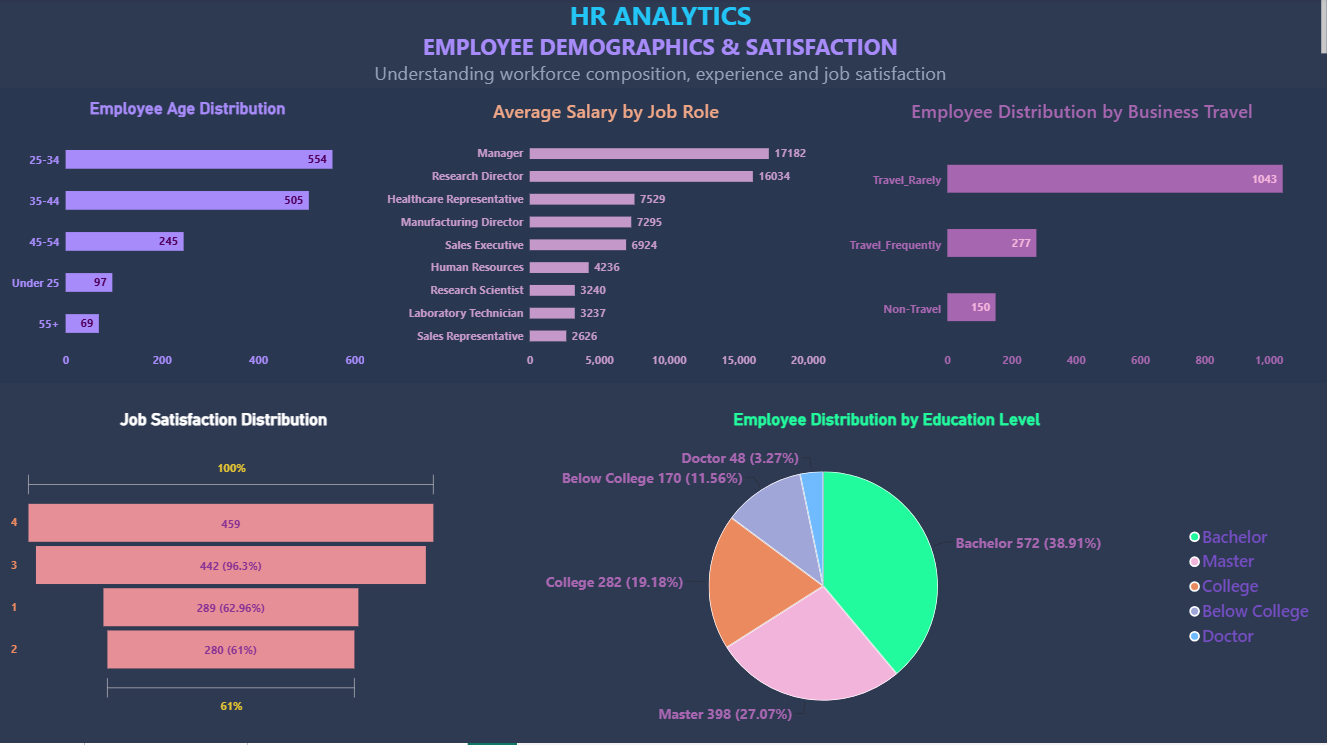

The page's visual inventory and layout, read from the dashboard file:
{"tool":"powerbi","page":{"name":"Employee Demographics","canvas":[1920,1080],"ordinal":2},"visuals":[{"type":"textbox","box":[0,0,1920.4,131.7],"z":0},{"type":"clusteredBarChart","title":"Employee Age Distribution","fields":{"Category":["HR.Age Group"],"Y":["HR.Total Employees"]},"box":[0,131.7,543.4,426.1],"z":1000},{"type":"clusteredBarChart","title":"Average Salary by Job Role","fields":{"Category":["HR.JobRole"],"Y":["HR.Average Monthly Salary"]},"box":[543.4,131.7,669,426.1],"z":2000},{"type":"funnel","title":"Job Satisfaction Distribution","fields":{"Category":["HR.JobSatisfaction"],"Y":["HR.Total Employees"]},"box":[0,582.5,648.4,498.1],"z":3000},{"type":"clusteredBarChart","title":"Employee Distribution by Business Travel","fields":{"Category":["HR.BusinessTravel"],"Y":["HR.Total Employees"]},"box":[1212.4,131.7,708.1,426.1],"z":4000},{"type":"pieChart","title":"Employee Distribution by Education Level","fields":{"Category":["HR.Education Level"],"Y":["HR.Total Employees"]},"box":[648.4,582.5,1272,498.1],"z":4001}]}

Visuals, with their boxes in screenshot pixels (x1, y1, x2, y2), scaled from the page's 1920x1080 canvas onto the 1327x745 screenshot:
textbox: x1=0, y1=0, x2=1326, y2=91
"Employee Age Distribution" clusteredBarChart: x1=0, y1=91, x2=376, y2=385
"Average Salary by Job Role" clusteredBarChart: x1=376, y1=91, x2=838, y2=385
"Job Satisfaction Distribution" funnel: x1=0, y1=402, x2=448, y2=744
"Employee Distribution by Business Travel" clusteredBarChart: x1=838, y1=91, x2=1326, y2=385
"Employee Distribution by Education Level" pieChart: x1=448, y1=402, x2=1326, y2=744
